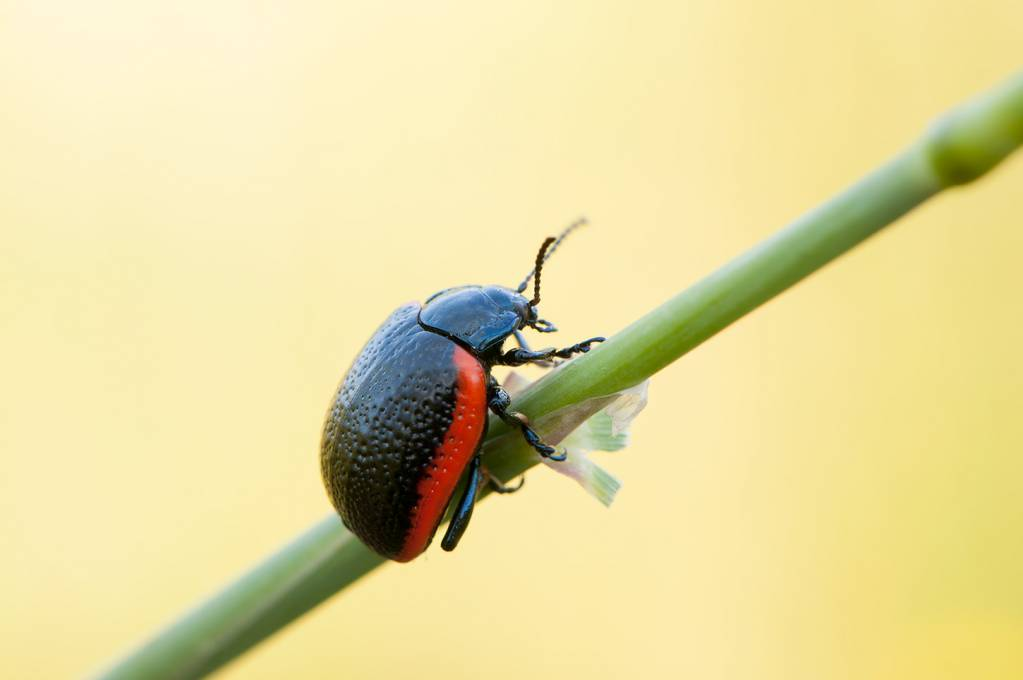Chrysolina_gypsophila: (316, 205, 610, 566)
